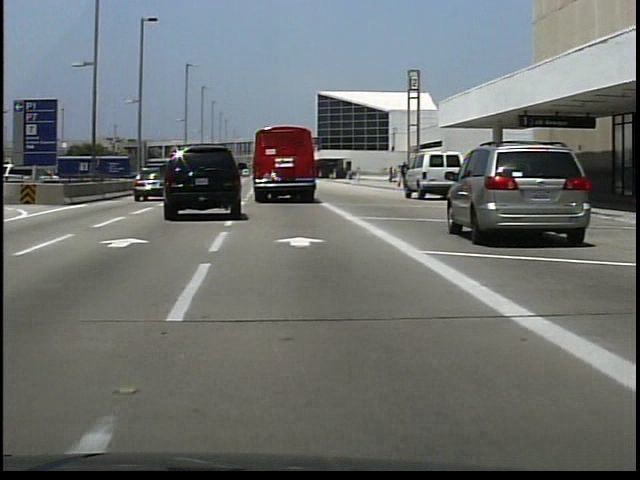person: (399, 161, 411, 195)
